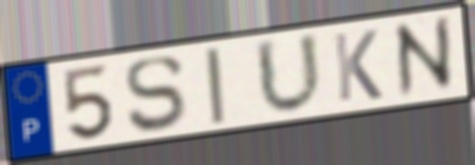5: (60, 62, 116, 141)
I: (201, 44, 228, 128)
K: (330, 27, 385, 105)
N: (389, 12, 460, 103)
S: (122, 52, 187, 136)
U: (251, 29, 327, 118)
